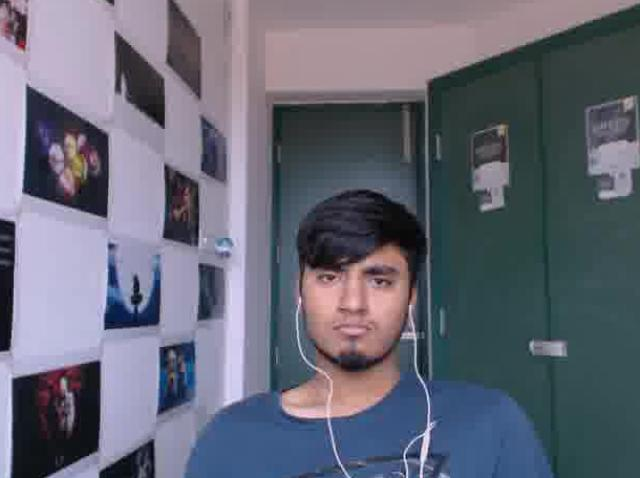bingung: (302, 236, 405, 360)
